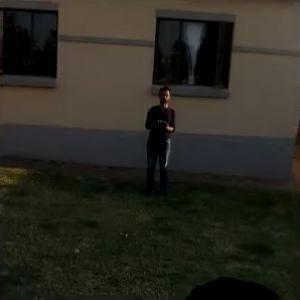follow: (139, 86, 177, 208)
